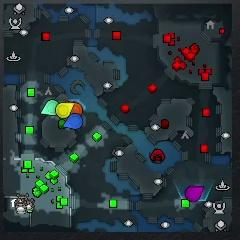p1: (63, 114, 84, 129)
p2: (41, 100, 59, 116)
p3: (185, 186, 204, 202)
p4: (56, 102, 75, 118)
p5: (65, 101, 84, 113)
